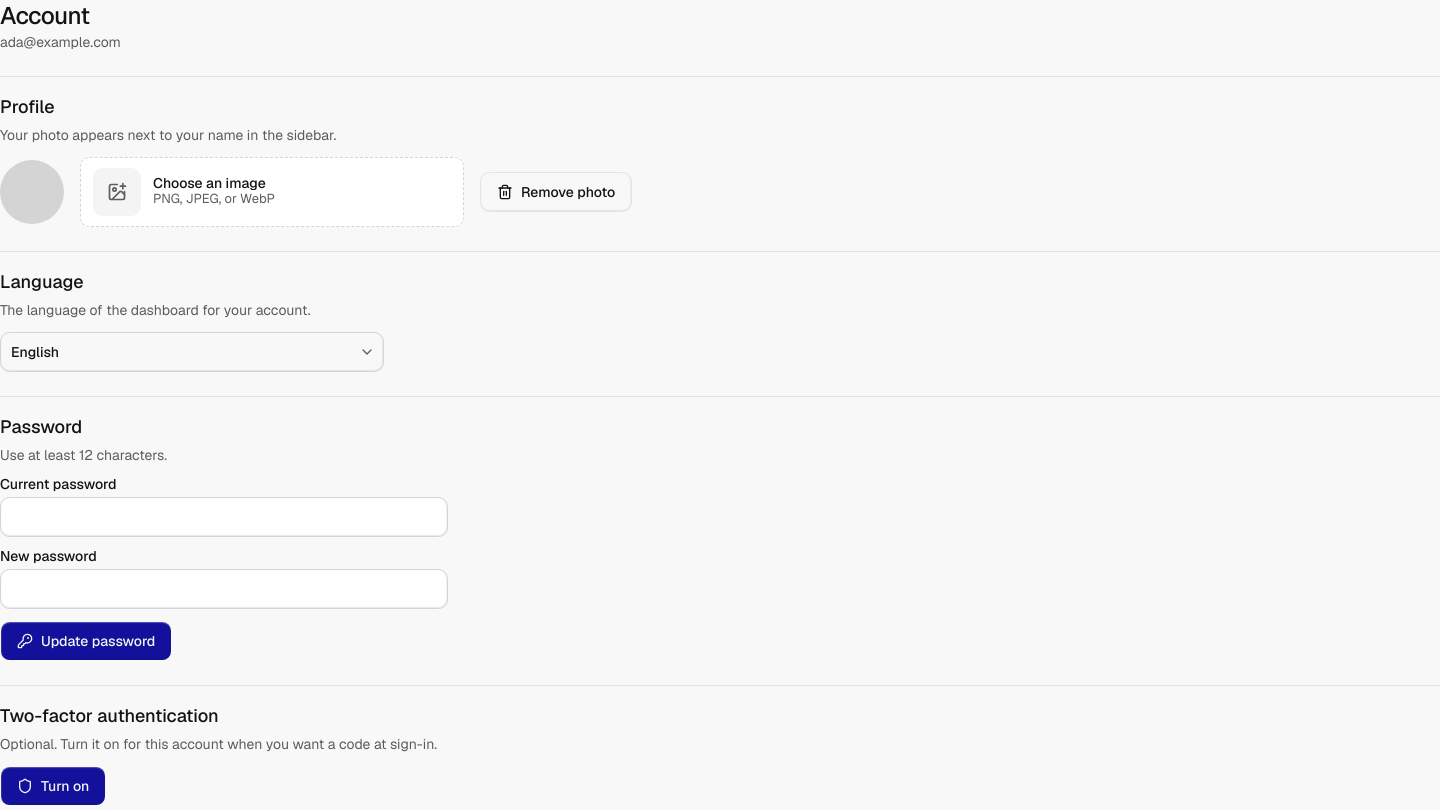
Test case: account page › asks before removing the photo and keeps it when cancelled
Click the button "Remove photo" at (556, 192), box top-left (480, 172), bottom-right (632, 212)
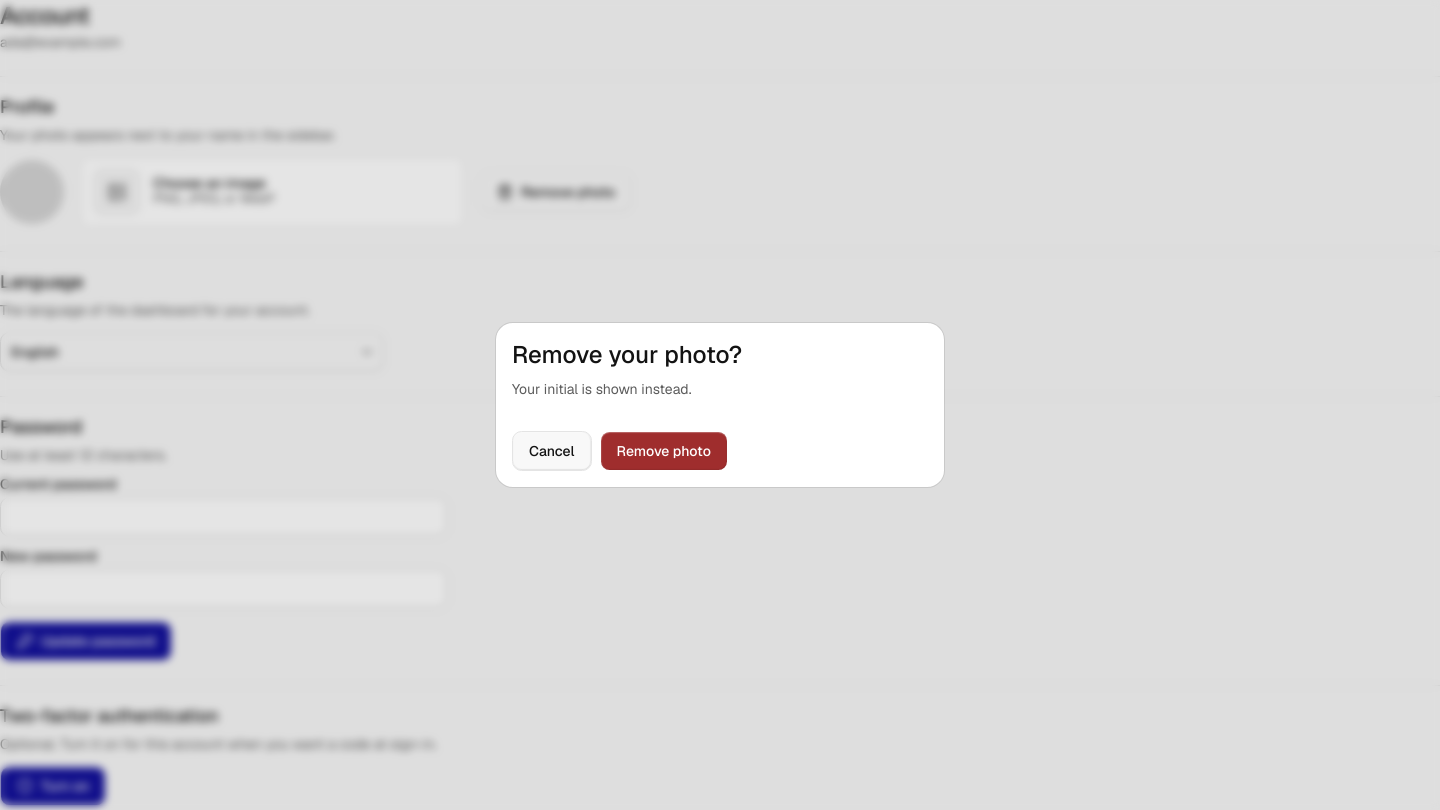
Result: the heading "Remove your photo?" is shown at top-left (512, 339), bottom-right (742, 370)
Click the button "Cancel" at (552, 451), box top-left (512, 431), bottom-right (592, 471)
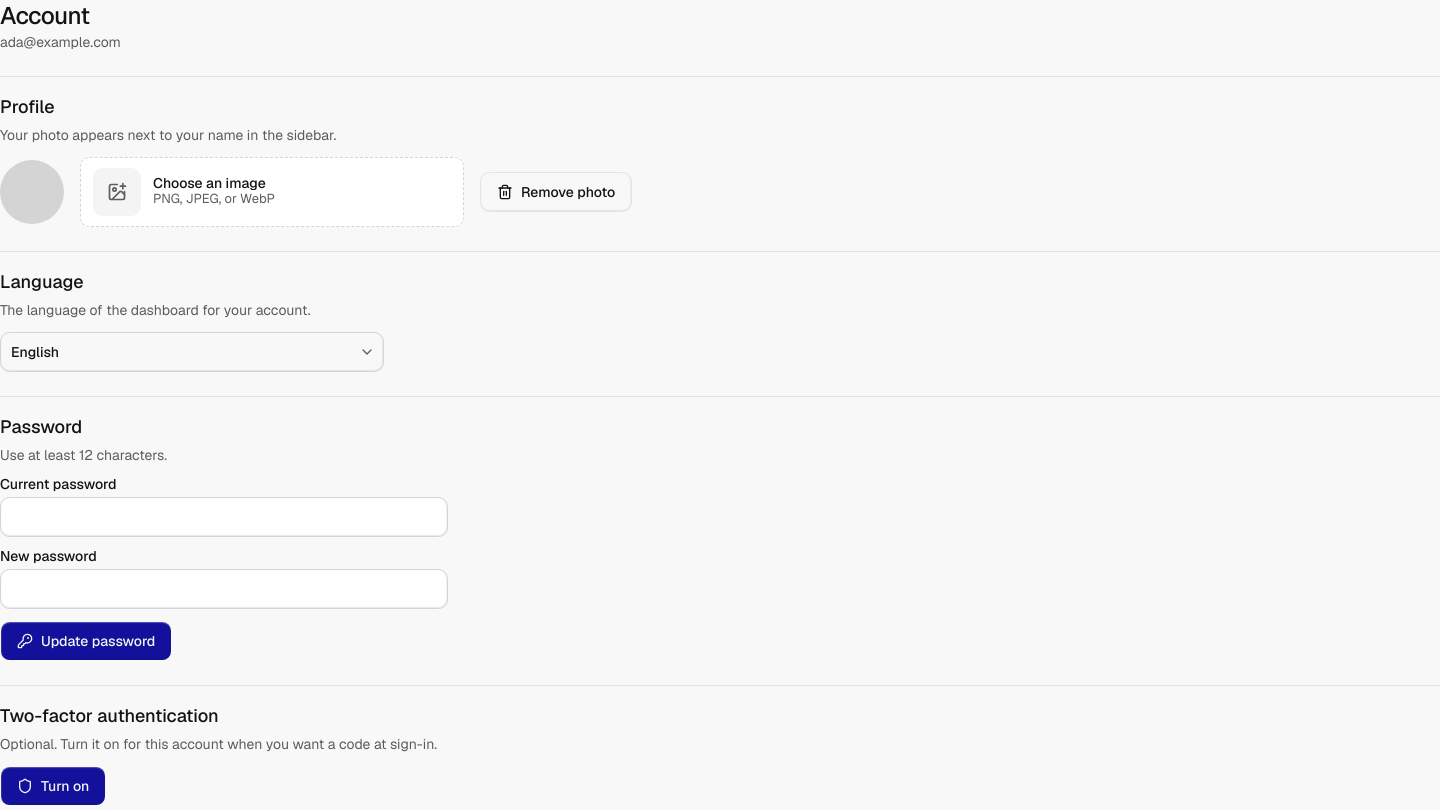
Result: the dialog is gone
